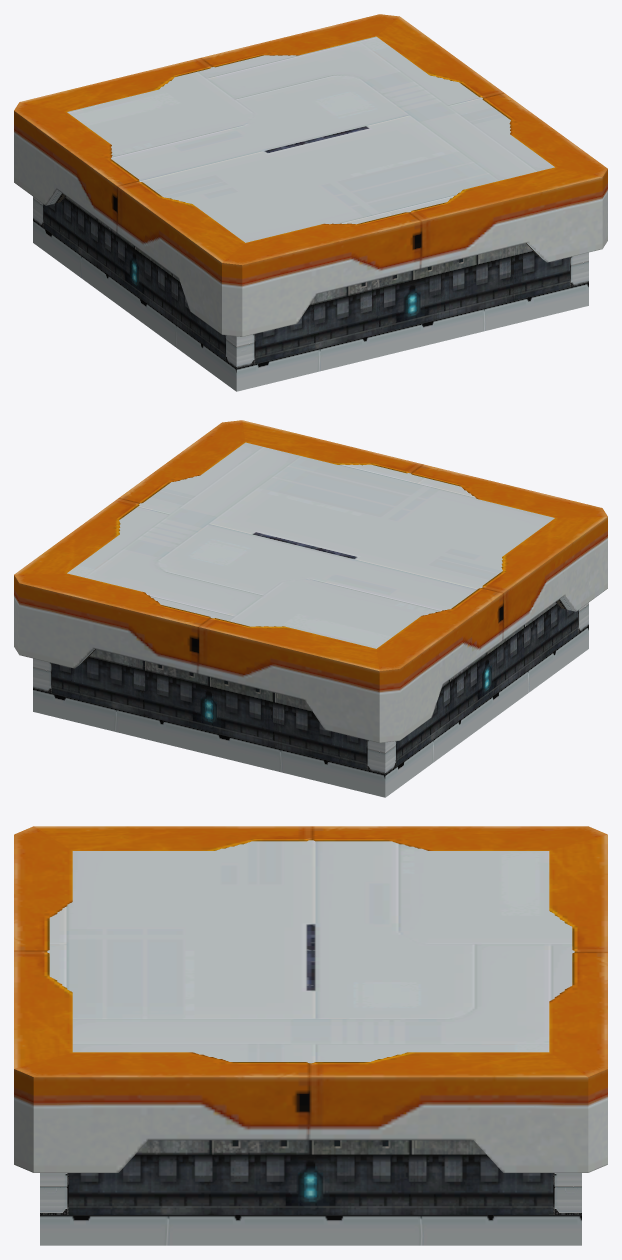
Rendered from stg200_obj_footholdB.obj.
3 views of the same model, one above another, from view 1: azimuth 30°, elevation 25°; view 2: azimuth 150°, elevation 25°; view 3: azimuth 270°, elevation 25° (orthographic). The views are drawn at different scales.
Visible parts, largest first — view 1: polygon5, polygon3, polygon4, polygon0, polygon1, polygon2; view 2: polygon5, polygon3, polygon4, polygon0, polygon1, polygon2; view 3: polygon5, polygon4, polygon3, polygon0, polygon1, polygon2.
Boxes of the visible parts, <box> form: polygon5: <box>67,36,554,242</box>; polygon3: <box>14,111,607,336</box>; polygon4: <box>14,14,607,265</box>; polygon0: <box>44,196,569,363</box>; polygon1: <box>33,189,588,391</box>; polygon2: <box>33,196,588,368</box>; polygon5: <box>67,442,554,648</box>; polygon3: <box>14,517,607,742</box>; polygon4: <box>14,420,607,671</box>; polygon0: <box>52,602,577,769</box>; polygon1: <box>33,595,588,797</box>; polygon2: <box>33,602,588,774</box>; polygon5: <box>47,840,574,1063</box>; polygon4: <box>14,826,607,1077</box>; polygon3: <box>14,1069,607,1172</box>; polygon0: <box>68,1140,553,1214</box>; polygon1: <box>40,1215,581,1245</box>; polygon2: <box>40,1173,581,1214</box>.
Bounding box in the file's own units: 30 × 10 × 30.
6 materials, 6 textured.
